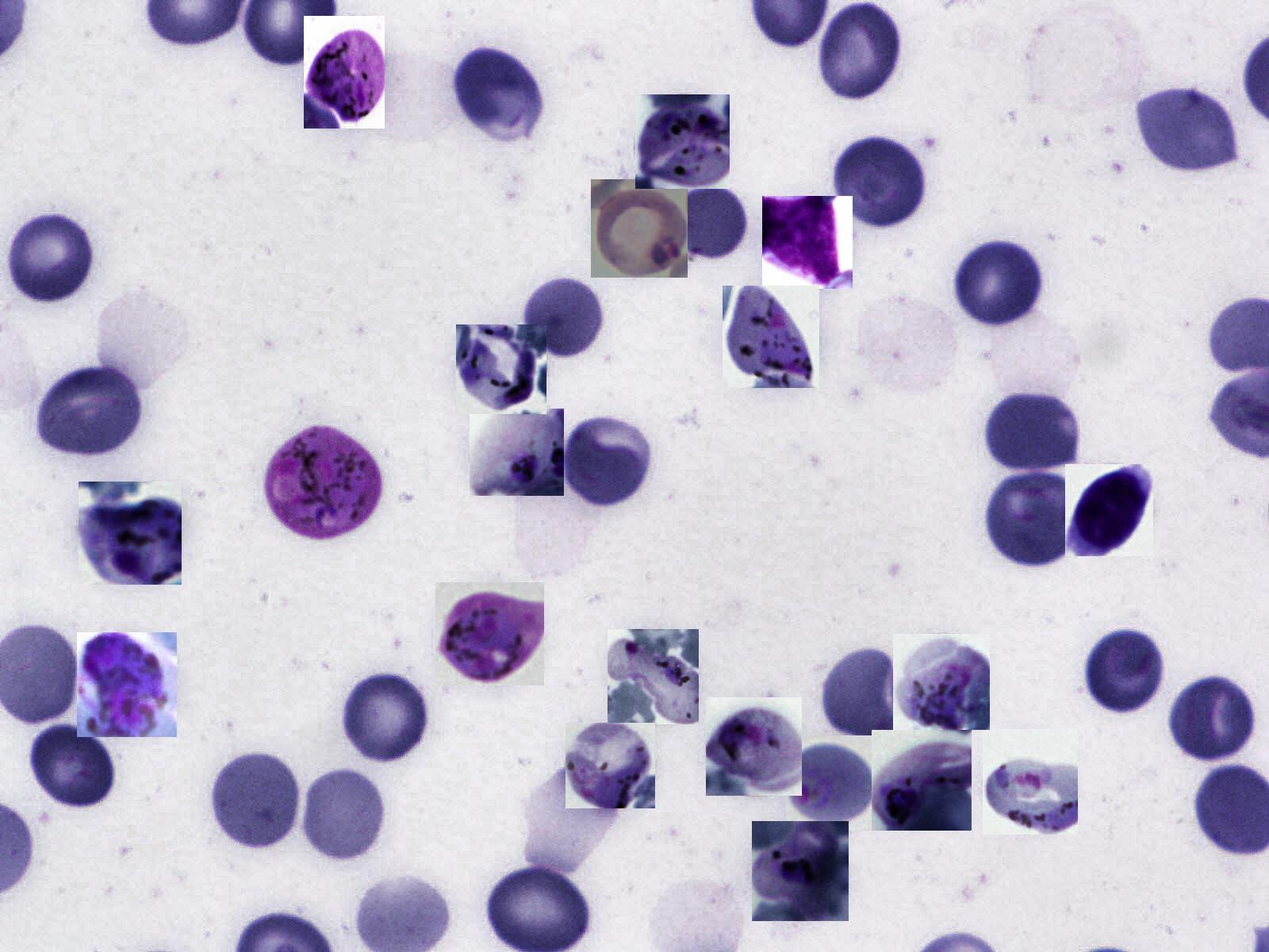Infected: (264, 426, 383, 543), (435, 582, 544, 685), (79, 482, 182, 585), (77, 632, 177, 737), (872, 730, 972, 831), (983, 729, 1078, 835), (723, 286, 819, 389), (752, 821, 849, 921), (591, 179, 688, 278), (706, 697, 802, 796), (893, 634, 990, 730), (304, 16, 385, 129), (635, 94, 730, 189), (608, 629, 699, 724), (786, 735, 876, 831), (762, 196, 853, 289), (470, 409, 564, 496), (1065, 464, 1153, 556), (456, 325, 546, 414), (565, 723, 655, 808)
Uninfected: (32, 363, 147, 460), (484, 858, 594, 951), (207, 747, 303, 850), (983, 470, 1082, 568), (830, 136, 931, 232), (823, 647, 918, 749), (814, 1, 907, 104), (449, 40, 545, 137), (4, 209, 95, 309), (300, 760, 385, 867), (1136, 86, 1238, 174), (337, 670, 432, 764), (561, 416, 654, 511), (1165, 669, 1259, 762), (952, 236, 1045, 329), (27, 724, 122, 811), (986, 391, 1080, 478), (1085, 626, 1165, 715), (522, 277, 604, 360), (670, 183, 748, 261)
